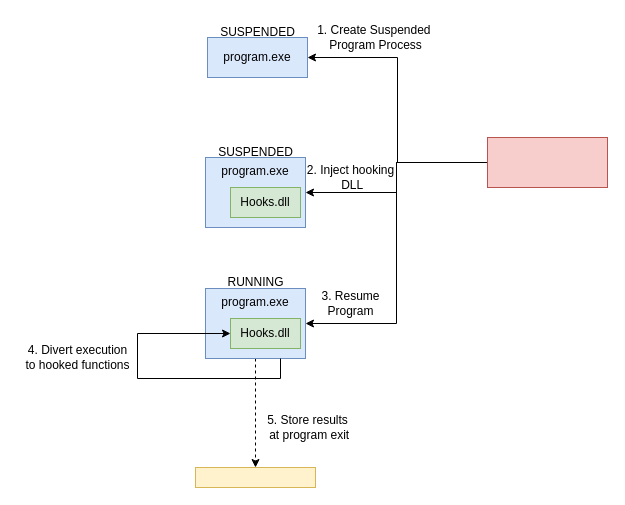
The diagram is 625 pixels wide and 505 high, and some of its shapes have lost their labels. The shapes that lost their labels are listed below. From the top down, each one's box as (x1, y1, x2, y2) in pixels, then its label:
(486, 136, 608, 188): Injector.exe
(194, 466, 316, 488): results.json
